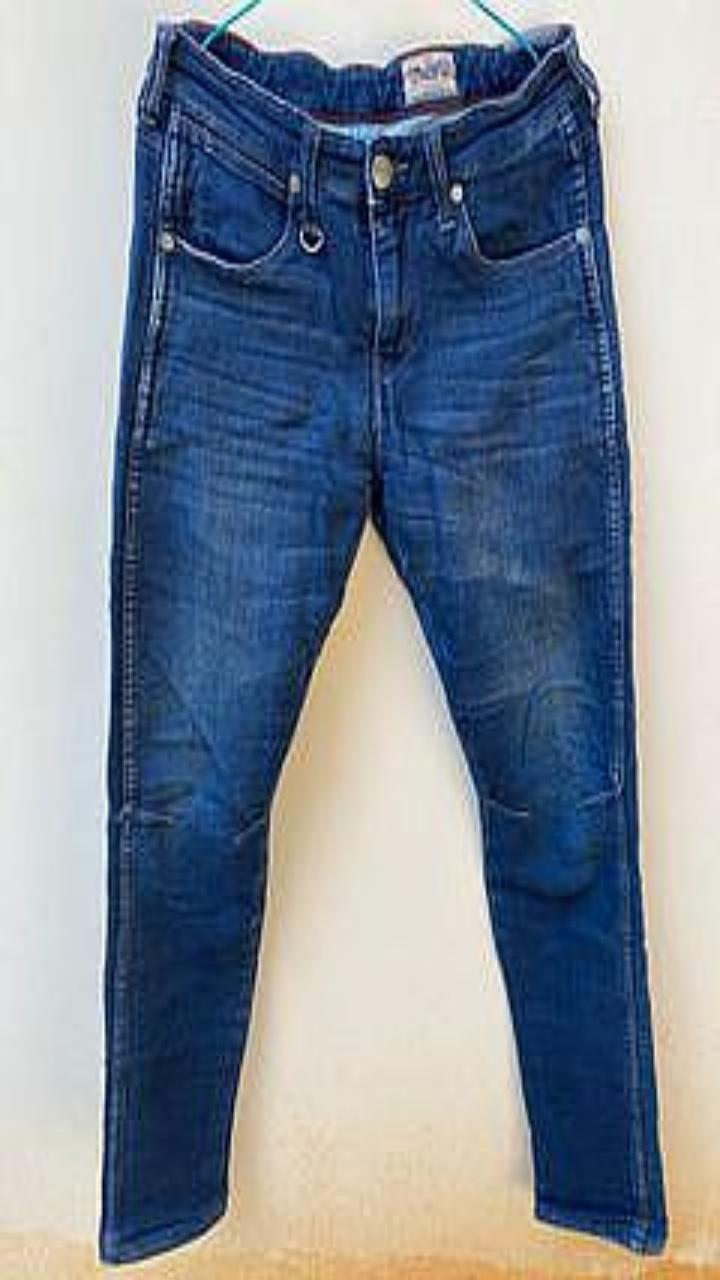Jeans: (99, 22, 666, 1262)
